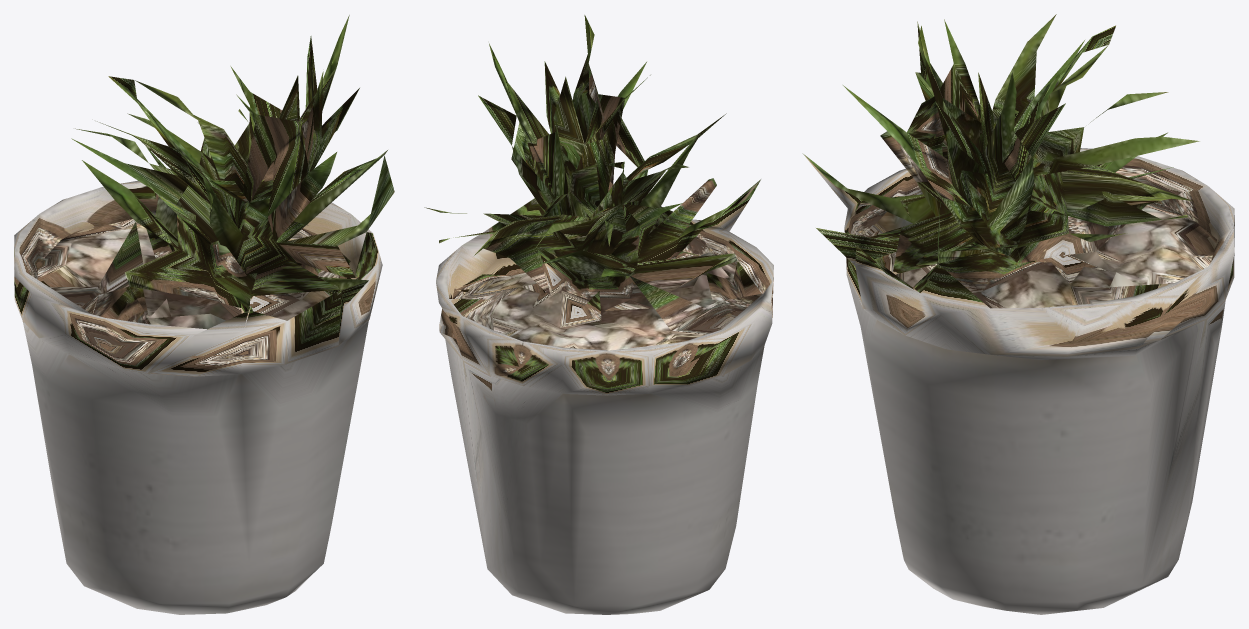
Rendered from plant.glb.
The picture shows the model from 3 angles, left to right: view 1: azimuth 30°, elevation 25°; view 2: azimuth 150°, elevation 25°; view 3: azimuth 270°, elevation 25°; orthographic projection. The views are drawn at different scales.
Bounding box in the file's own units: 0.1645 × 0.2669 × 0.1805.
Materials: 1 (1 with a texture image).
